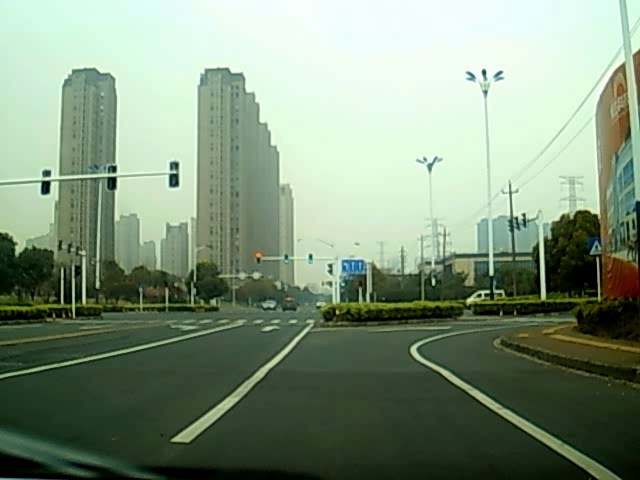Traffic_Light_go: (307, 252, 315, 265), (283, 254, 289, 265)
Traffic_Light_stop: (254, 251, 263, 265)
